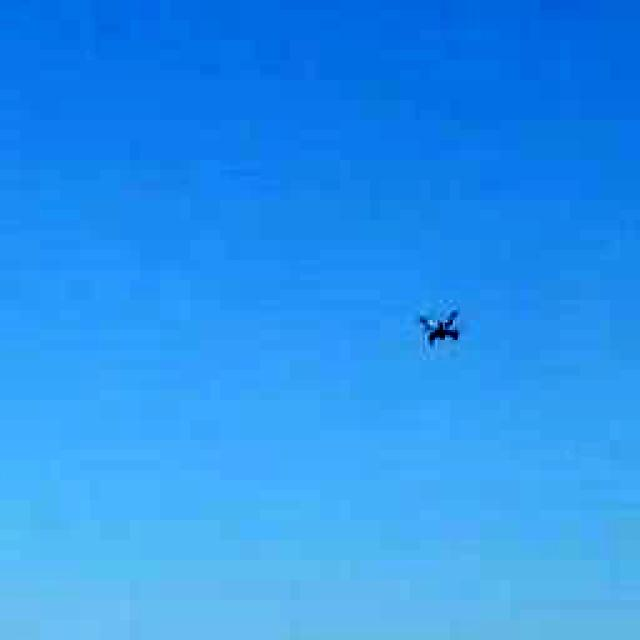bird: (388, 292, 492, 360)
